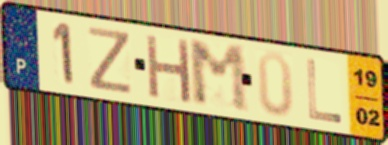0: (255, 50, 296, 120)
1: (50, 21, 76, 89)
H: (143, 31, 194, 106)
L: (304, 57, 345, 126)
M: (186, 39, 252, 116)
Z: (86, 24, 134, 97)
